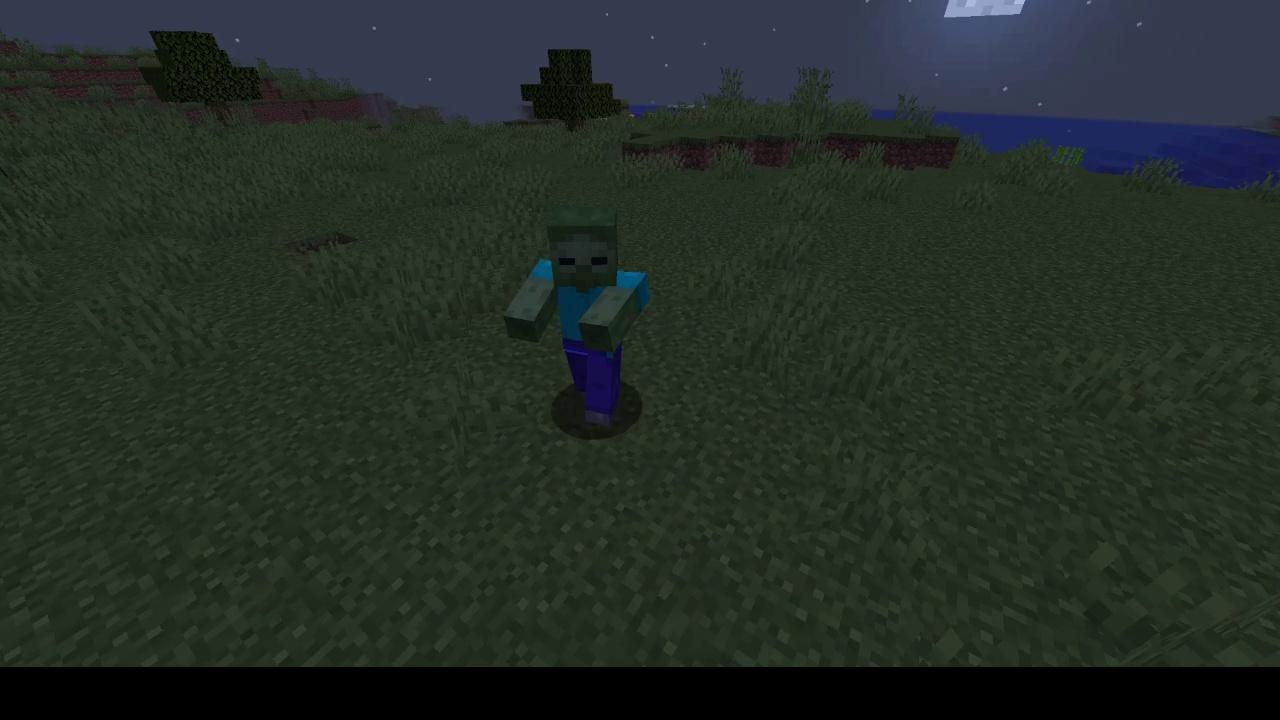zombie: (502, 202, 656, 431)
